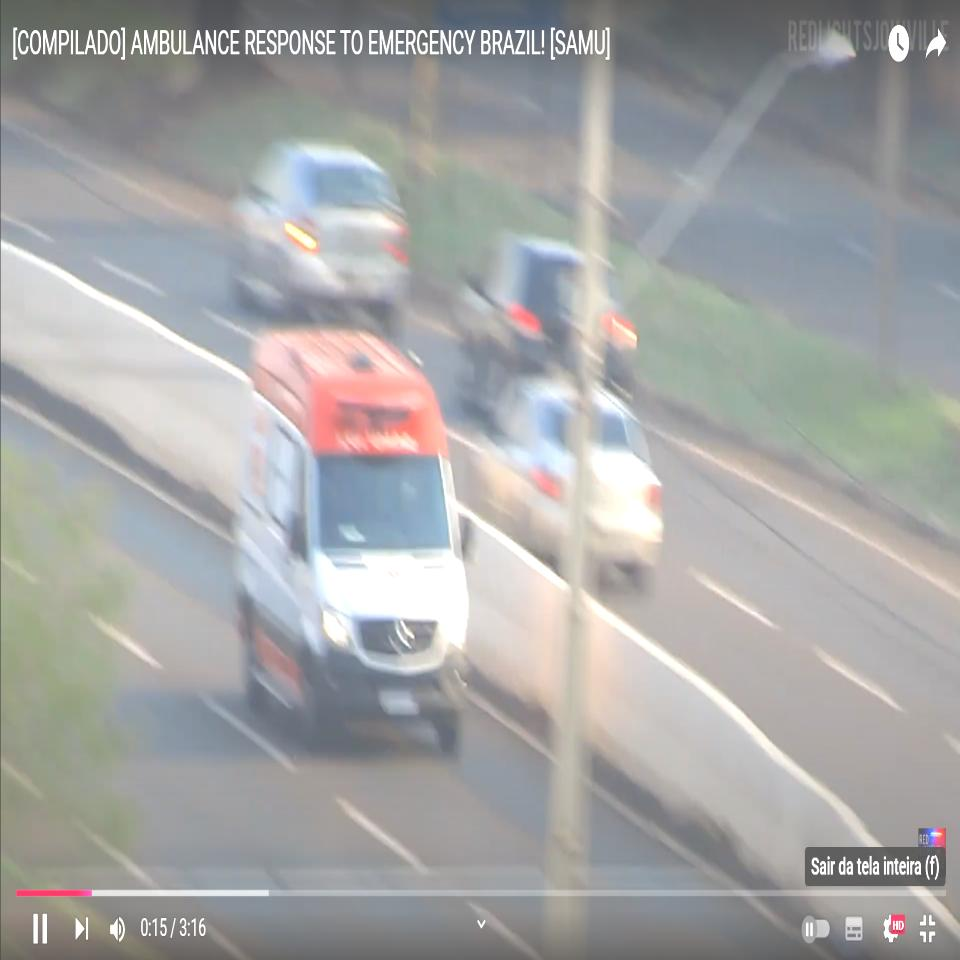ambulancia: (233, 318, 477, 759)
